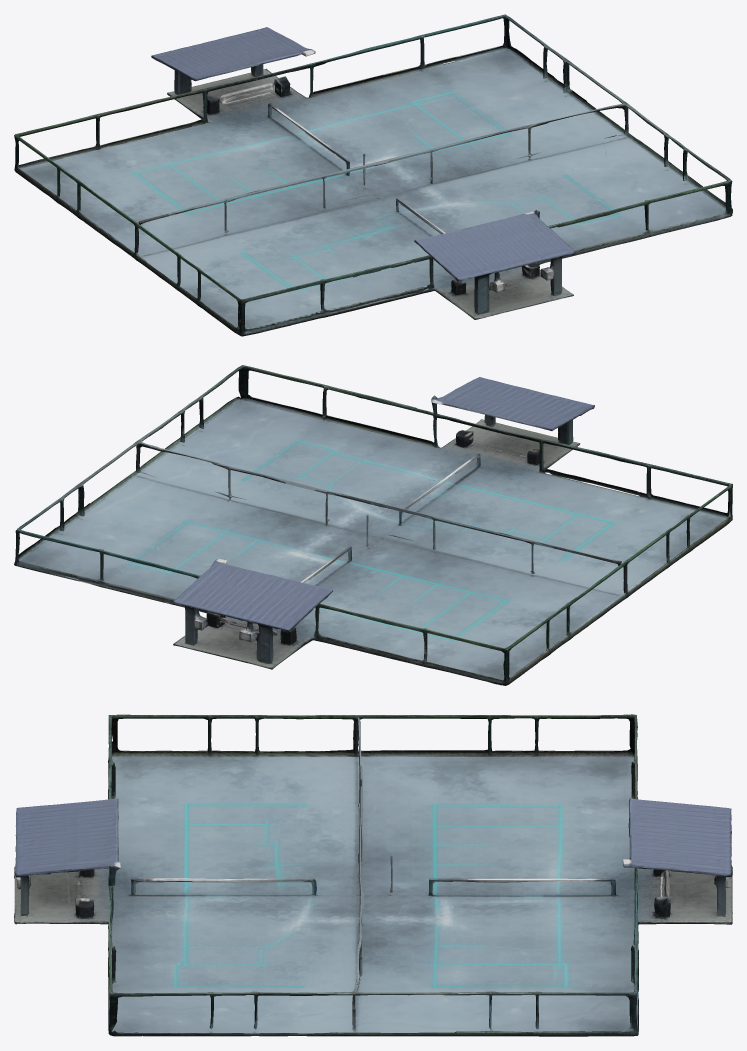
Rendered from Pickleball.glb.
The picture shows the model from 3 angles, top to bottom: view 1: azimuth 30°, elevation 25°; view 2: azimuth 150°, elevation 25°; view 3: azimuth 270°, elevation 25°; orthographic projection. The views are drawn at different scales.
Parts seen in each view (by area): view 1: world; view 2: world; view 3: world.
Boxes of the visible parts, x1=… form: world: x1=14, y1=14, x2=732, y2=336; world: x1=14, y1=365, x2=732, y2=685; world: x1=14, y1=714, x2=732, y2=1036.
Size of the model in its own units: 0.9309 by 0.0979 by 1.
1 material, 1 textured.
